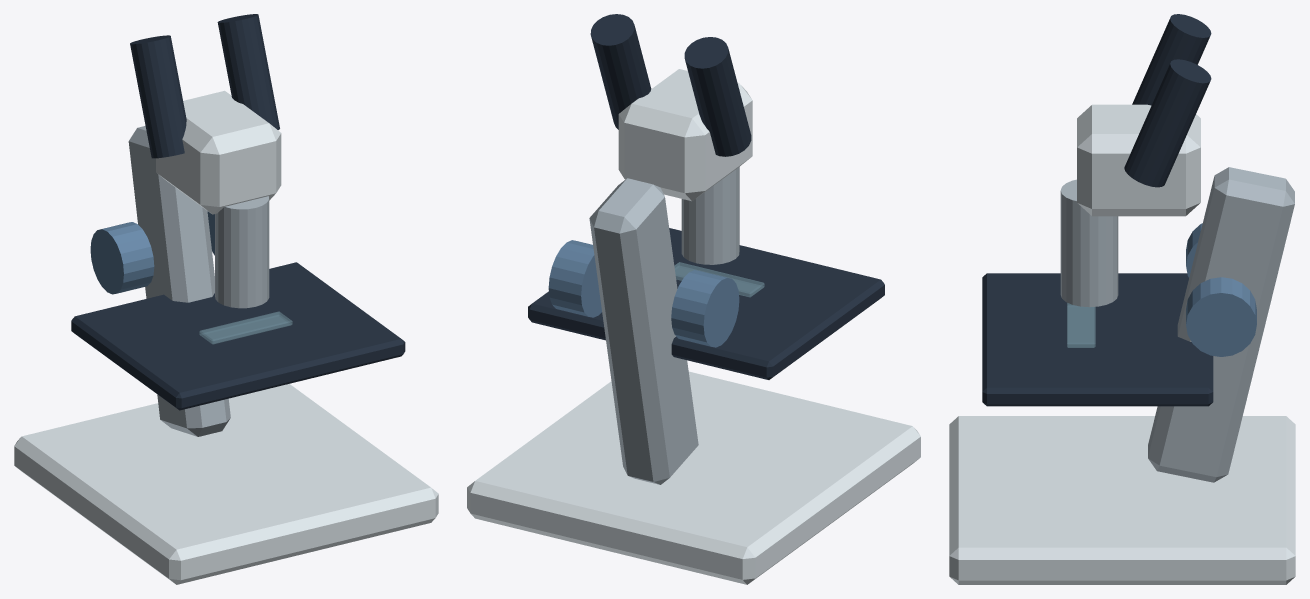
The model's file is lab_03.glb.
3 views of the same model, side by side, from view 1: azimuth 30°, elevation 25°; view 2: azimuth 150°, elevation 25°; view 3: azimuth 270°, elevation 25° (orthographic). The views are drawn at different scales.
Parts seen in each view (by area): view 1: MicroscopeBase, SampleStage, MicroscopeArm, OpticalBody, Eyepiece (×2), Objective, FocusKnob, GlassSlide; view 2: MicroscopeBase, MicroscopeArm, SampleStage, OpticalBody, Eyepiece (×2), FocusKnob (×2), Objective, GlassSlide; view 3: MicroscopeBase, SampleStage, MicroscopeArm, OpticalBody, Eyepiece (×2), Objective, FocusKnob, GlassSlide.
Boxes of the visible parts, x1,y1,x2,y2 form: MicroscopeBase: (14, 384, 438, 584); SampleStage: (71, 262, 405, 410); MicroscopeArm: (128, 126, 230, 436); OpticalBody: (156, 90, 281, 214); Eyepiece (×2): (130, 14, 279, 158); Objective: (215, 196, 269, 308); FocusKnob: (90, 222, 154, 294); GlassSlide: (199, 311, 292, 344); MicroscopeBase: (467, 371, 920, 584); MicroscopeArm: (589, 178, 698, 484); SampleStage: (528, 228, 884, 379); OpticalBody: (618, 69, 752, 201); Eyepiece (×2): (590, 14, 751, 156); FocusKnob (×2): (548, 240, 739, 347); Objective: (681, 167, 739, 264); GlassSlide: (674, 262, 764, 297); MicroscopeBase: (949, 416, 1295, 584); SampleStage: (982, 273, 1213, 406); MicroscopeArm: (1148, 167, 1294, 482); OpticalBody: (1077, 104, 1200, 216); Eyepiece (×2): (1124, 14, 1211, 187); Objective: (1060, 179, 1118, 307); FocusKnob: (1186, 277, 1256, 356); GlassSlide: (1067, 303, 1095, 347).
Bounding box in the file's own units: 0.4 × 0.6397 × 0.42.
